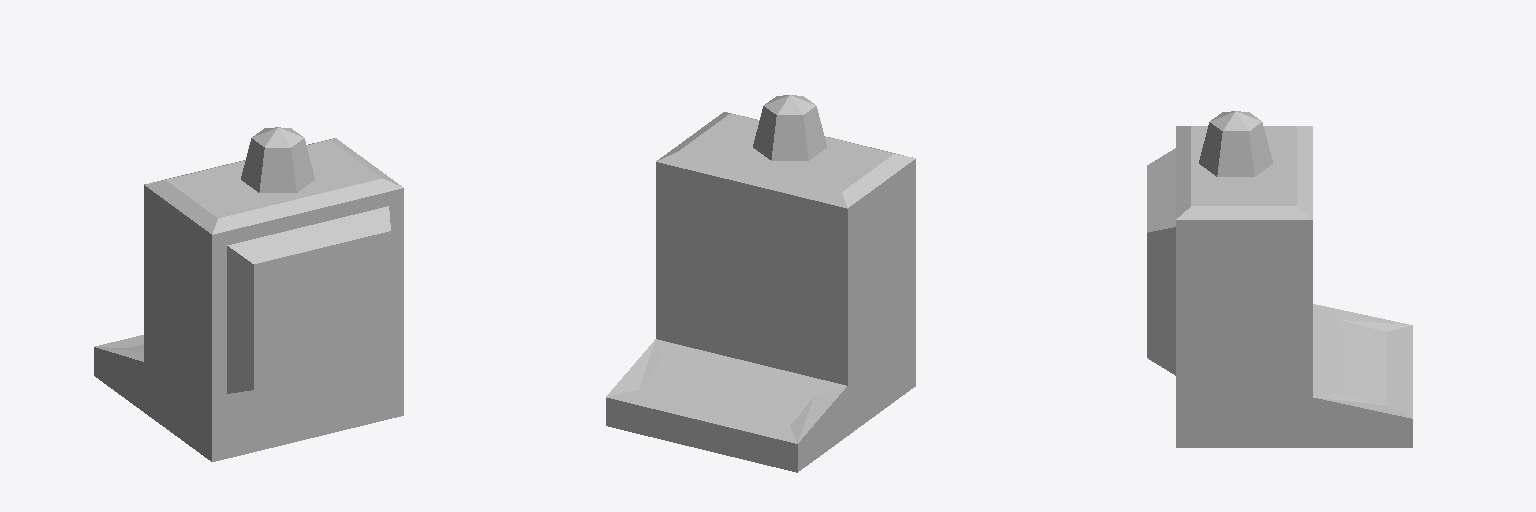
Rendered from computer.obj.
3 renders of one model, left to right at view 1: azimuth 30°, elevation 25°; view 2: azimuth 150°, elevation 25°; view 3: azimuth 270°, elevation 25°, orthographic.
Visible parts, largest first — view 1: Computer.001; view 2: Computer.001; view 3: Computer.001.
Boxes of the visible parts, box(x1,y1,x2,y2) form: Computer.001: box(94, 127, 403, 461); Computer.001: box(606, 95, 915, 472); Computer.001: box(1147, 111, 1412, 447).
Bounding box in the file's own units: 50.03 × 72.14 × 60.